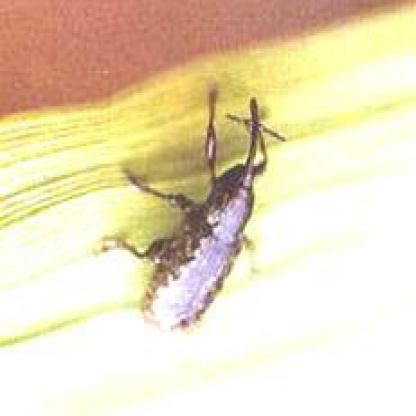rice-bug: (133, 96, 266, 332)
